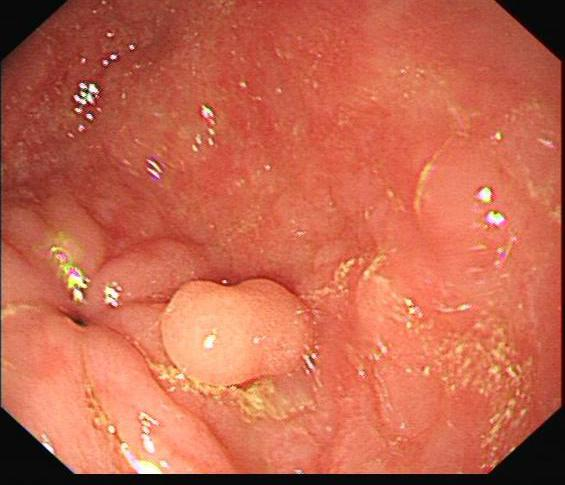Polyp: (150, 255, 334, 400)
